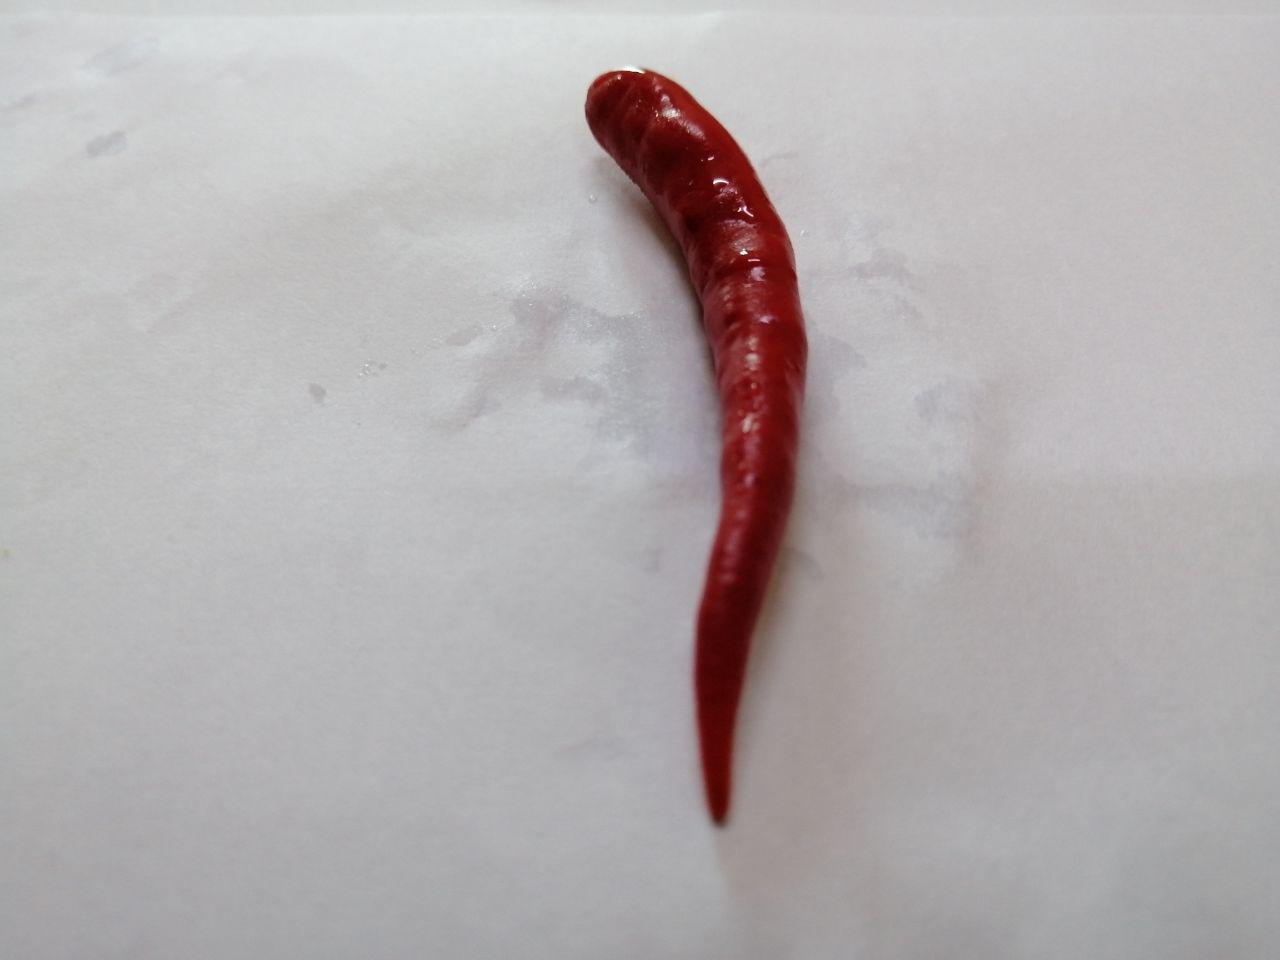lada merah: (566, 52, 819, 842)
